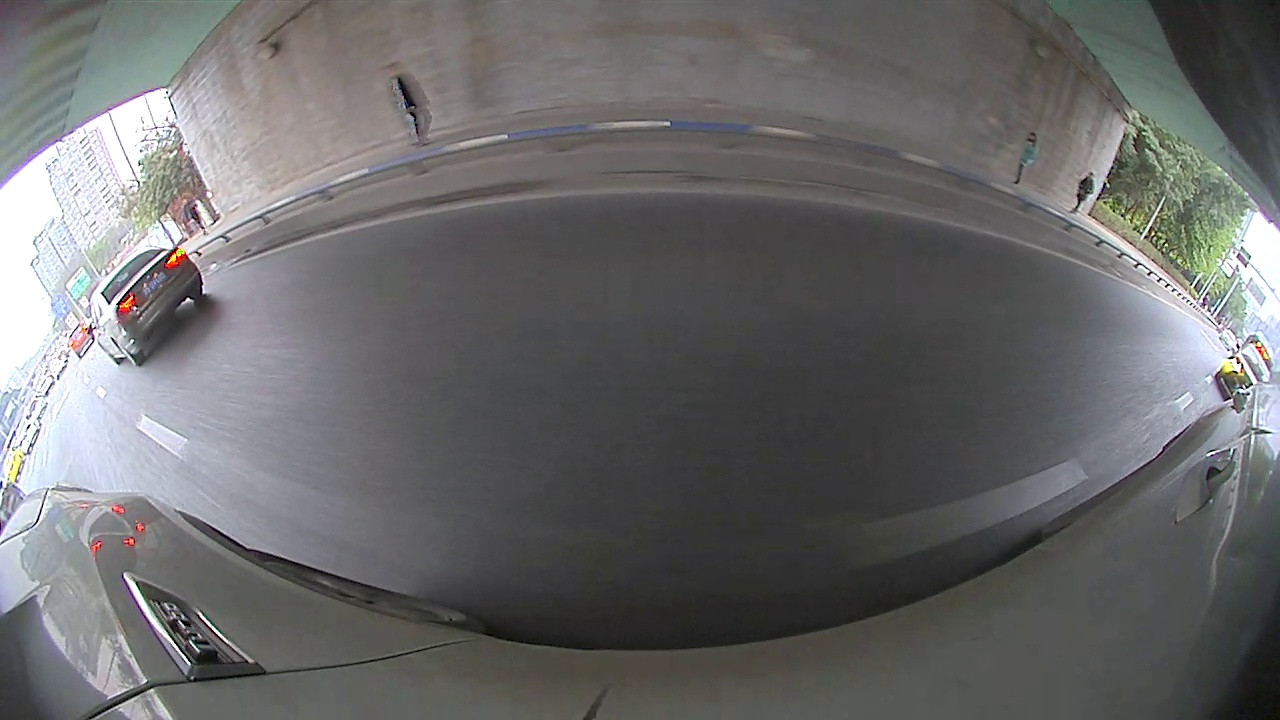car: (88, 245, 203, 368), (1213, 342, 1273, 401)
front: (99, 342, 120, 368)
person: (393, 76, 409, 151), (1023, 132, 1038, 188), (1082, 170, 1096, 218)
rear: (115, 337, 147, 369), (184, 280, 206, 304)
